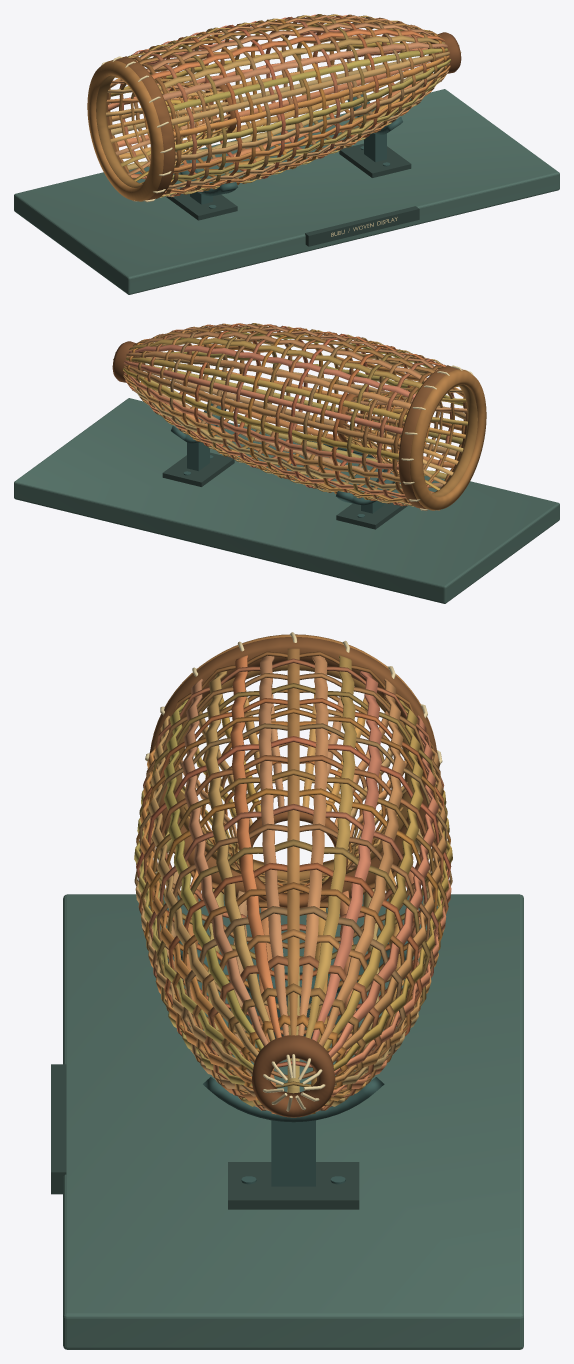
File: woven-bubu-fish-trap-display.glb
The picture shows the model from 3 angles, top to bottom: view 1: azimuth 30°, elevation 25°; view 2: azimuth 150°, elevation 25°; view 3: azimuth 270°, elevation 25°; orthographic projection. The views are drawn at different scales.
Parts seen in each view (by area): view 1: Independent museum base, Original narrow rounded entrance face lip, Actual dark rear mouth wrap seated around body, Separate modest exhibit caption strip, Outer longitudinal strip 31, Outer longitudinal strip 28, Outer longitudinal strip 29, Outer longitudinal strip 30, Outer longitudinal strip 27, Outer longitudinal strip 32, Outer longitudinal strip 26, Outer longitudinal strip 33 (+43 smaller); view 2: Independent museum base, Original narrow rounded entrance face lip, Actual dark rear mouth wrap seated around body, Outer longitudinal strip 05, Outer longitudinal strip 07, Outer longitudinal strip 08, Outer longitudinal strip 06, Outer longitudinal strip 09, Outer longitudinal strip 04, Outer longitudinal strip 10, Outer longitudinal strip 03, Outer longitudinal strip 11 (+42 smaller); view 3: Independent museum base, Actual dark rear mouth wrap seated around body, Independent flush exhibit cradle shoe.001, Outer longitudinal strip 01, Outer longitudinal strip 33, Outer longitudinal strip 03, Small distal dark bound taper end, Outer longitudinal strip 02, Outer longitudinal strip 34, Outer longitudinal strip 32, Outer longitudinal strip 04, Outer longitudinal strip 31 (+39 smaller).
Part boxes in pixels (x1,y1,x2,y2): Independent museum base: [14, 89, 559, 294]; Original narrow rounded entrance face lip: [87, 60, 163, 201]; Actual dark rear mouth wrap seated around body: [106, 57, 175, 200]; Separate modest exhibit caption strip: [305, 206, 419, 246]; Outer longitudinal strip 31: [162, 42, 447, 100]; Outer longitudinal strip 28: [173, 55, 449, 137]; Outer longitudinal strip 29: [171, 51, 449, 125]; Outer longitudinal strip 30: [167, 48, 447, 112]; Outer longitudinal strip 27: [175, 59, 450, 150]; Outer longitudinal strip 32: [158, 35, 445, 90]; Outer longitudinal strip 26: [175, 62, 449, 161]; Outer longitudinal strip 33: [151, 28, 444, 79]; Independent museum base: [14, 398, 559, 603]; Original narrow rounded entrance face lip: [410, 369, 486, 510]; Actual dark rear mouth wrap seated around body: [398, 366, 467, 508]; Outer longitudinal strip 05: [126, 351, 411, 409]; Outer longitudinal strip 07: [124, 360, 402, 434]; Outer longitudinal strip 08: [124, 364, 400, 446]; Outer longitudinal strip 06: [126, 357, 406, 421]; Outer longitudinal strip 09: [123, 368, 398, 459]; Outer longitudinal strip 04: [128, 344, 415, 399]; Outer longitudinal strip 10: [124, 371, 398, 470]; Outer longitudinal strip 03: [129, 337, 422, 388]; Outer longitudinal strip 11: [123, 374, 400, 482]; Independent museum base: [63, 894, 523, 1349]; Actual dark rear mouth wrap seated around body: [147, 637, 439, 901]; Independent flush exhibit cradle shoe.001: [228, 1162, 359, 1209]; Outer longitudinal strip 01: [287, 648, 299, 1035]; Outer longitudinal strip 33: [230, 655, 281, 1038]; Outer longitudinal strip 03: [305, 655, 356, 1038]; Small distal dark bound taper end: [252, 1035, 335, 1117]; Outer longitudinal strip 02: [298, 655, 328, 1035]; Outer longitudinal strip 34: [258, 655, 288, 1035]; Outer longitudinal strip 32: [205, 671, 275, 1041]; Outer longitudinal strip 04: [311, 671, 381, 1041]; Outer longitudinal strip 31: [181, 679, 268, 1046].
Size of the model in its own units: 1.7 by 0.6818 by 0.8075.
